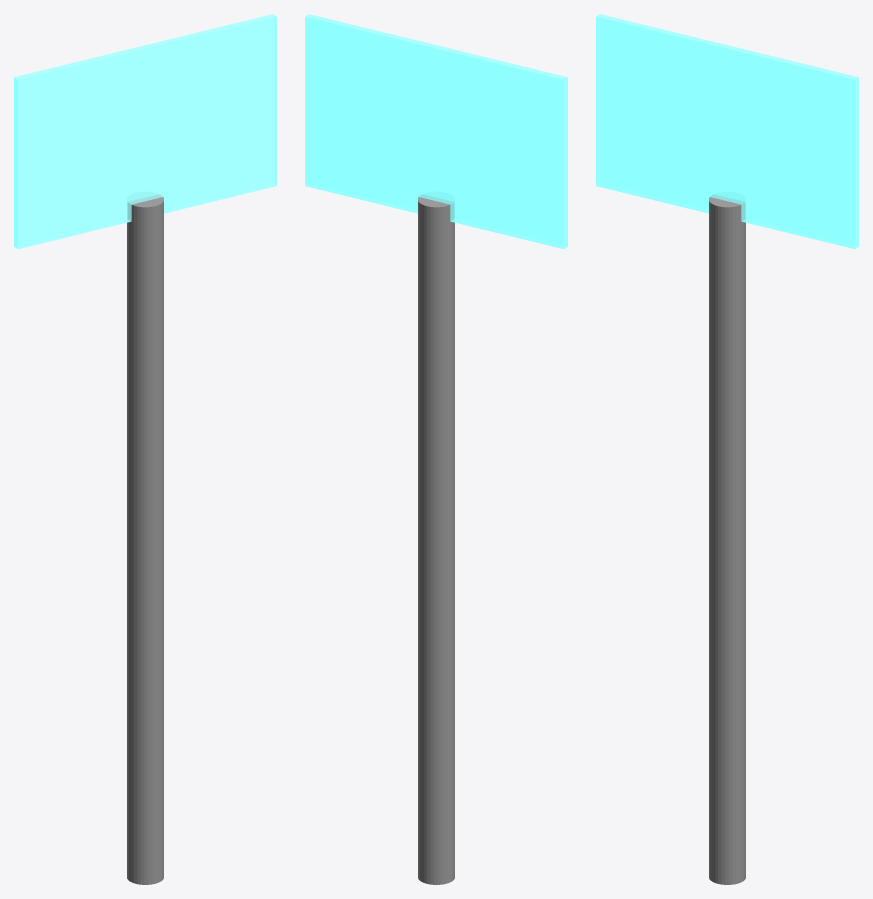
File: holographic_billboard.glb
3 views of the same model, side by side, from view 1: azimuth 30°, elevation 25°; view 2: azimuth 150°, elevation 25°; view 3: azimuth 330°, elevation 25° (orthographic).
Visible parts, largest first — view 1: Panel; view 2: Panel; view 3: Panel.
Boxes of the visible parts, x1,y1,x2,y2 form: Panel: [14, 14, 276, 884]; Panel: [305, 14, 567, 884]; Panel: [596, 14, 858, 884].
Bounding box in the file's own units: 0.8 × 2.45 × 0.1.
